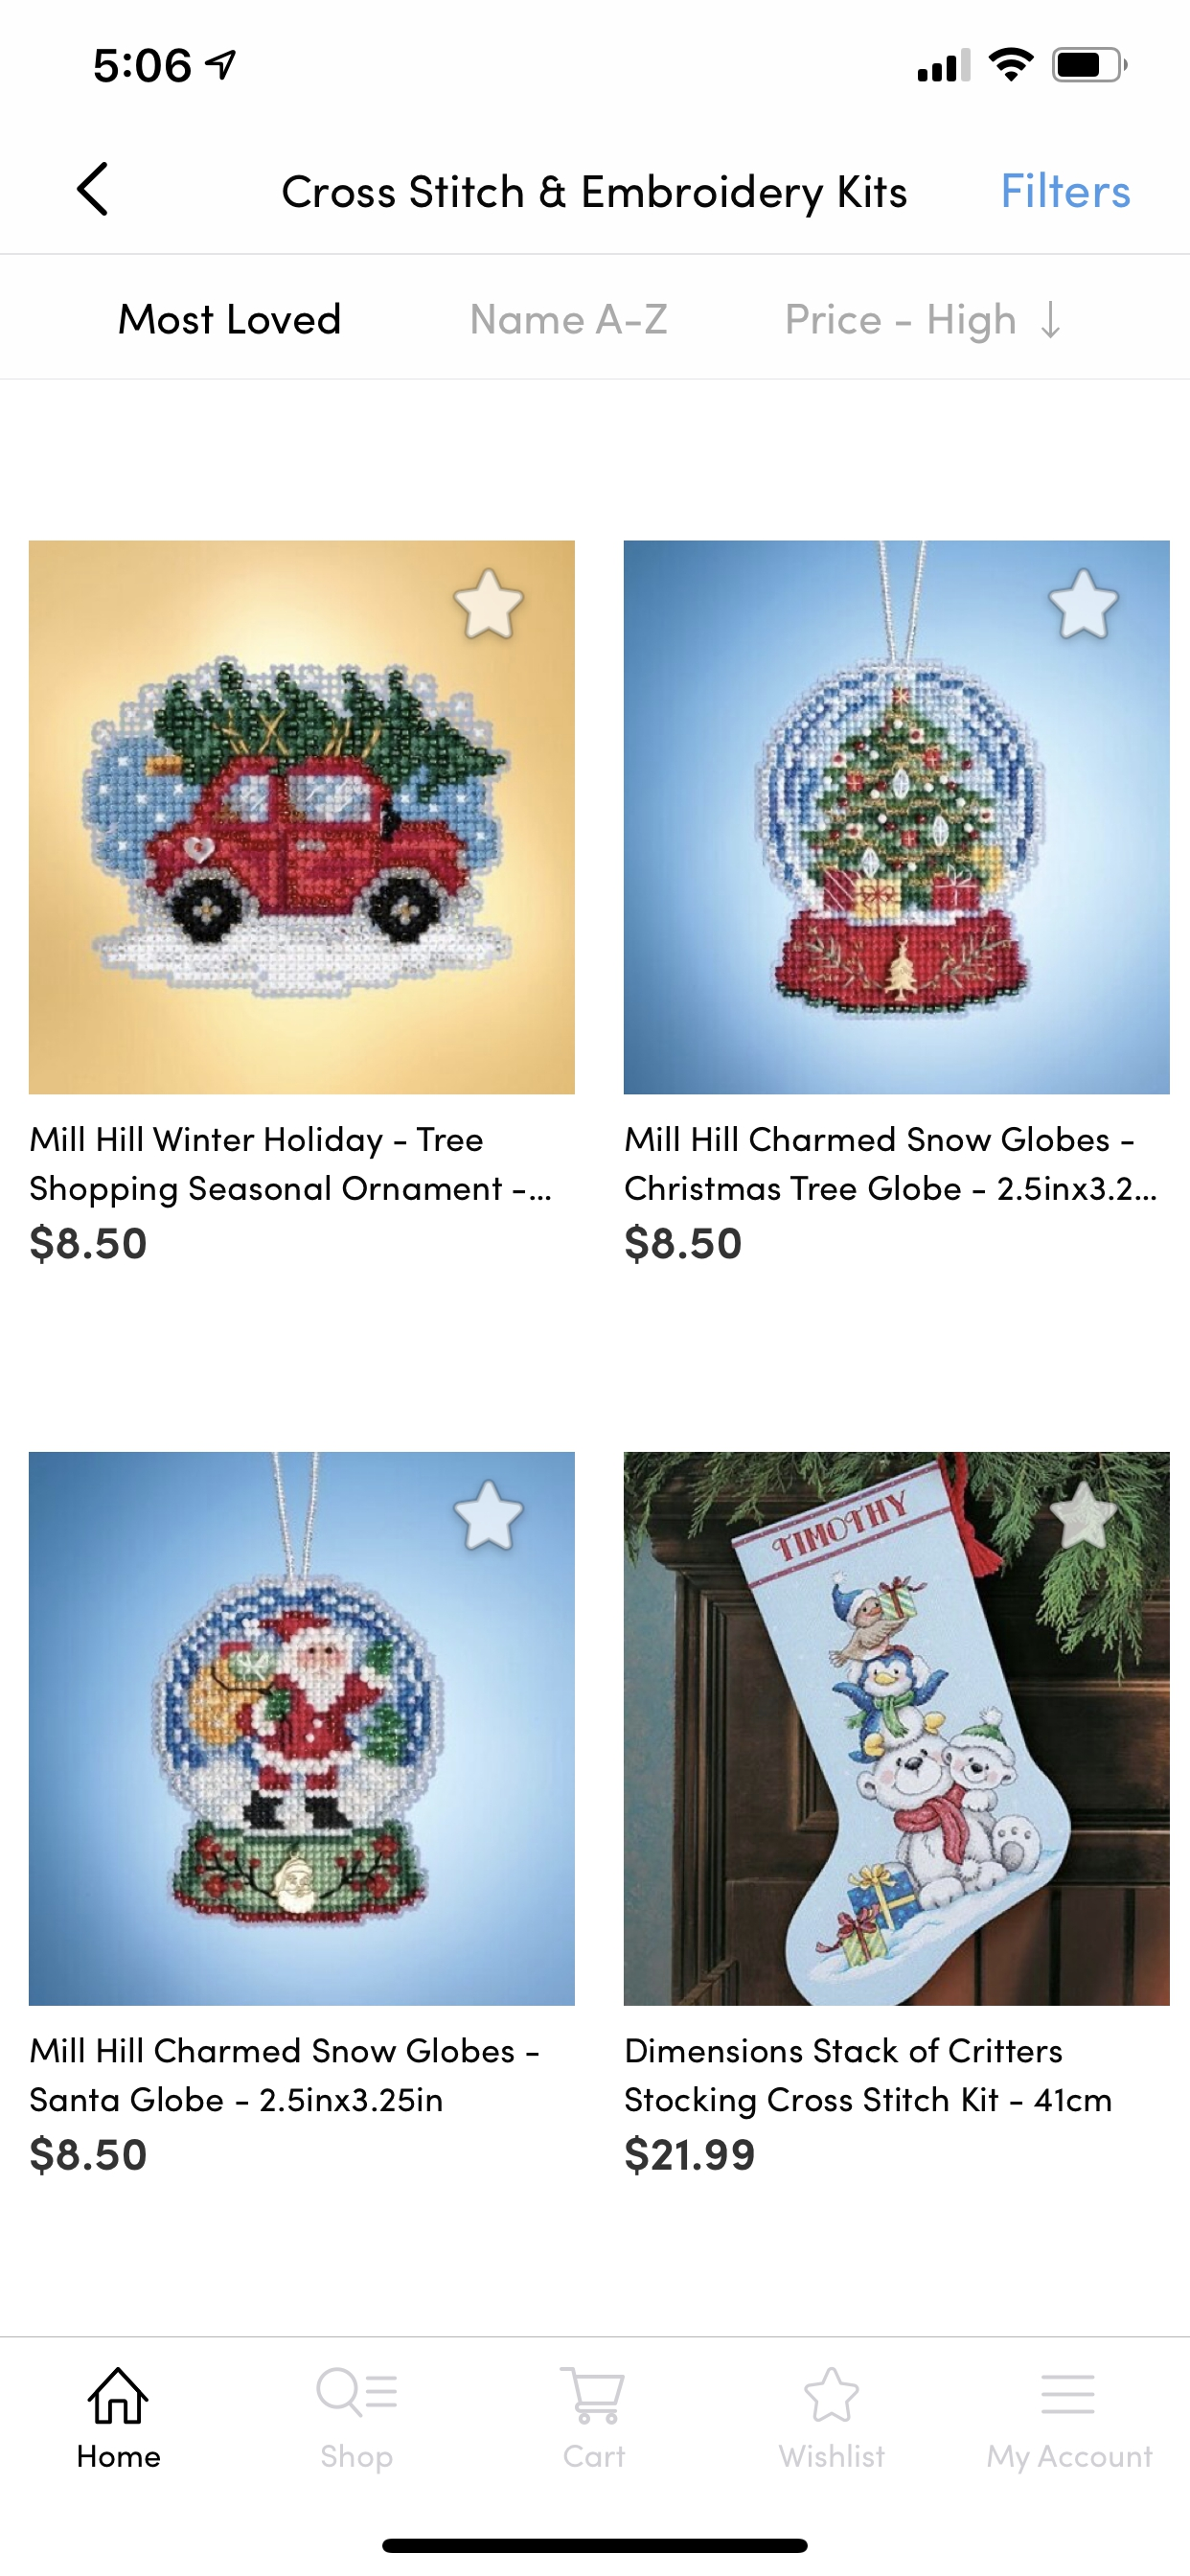Icon: (1047, 567, 1119, 641), (452, 567, 524, 641), (452, 1479, 524, 1551), (1049, 1480, 1118, 1549), (316, 2366, 398, 2418), (559, 2366, 625, 2425), (87, 2366, 150, 2425), (804, 2366, 860, 2422), (1040, 2374, 1095, 2413), (77, 163, 108, 217), (1042, 301, 1060, 338)
Image: (623, 1452, 1170, 2006), (28, 1452, 575, 2006), (623, 540, 1170, 1094), (28, 540, 575, 1094)
Text: (31, 1125, 551, 1209), (625, 2037, 1111, 2119), (31, 2037, 539, 2113), (283, 174, 906, 218), (626, 1175, 1155, 1199), (626, 1127, 1134, 1152), (787, 302, 1014, 345), (118, 302, 339, 335), (472, 304, 667, 335), (626, 2134, 754, 2175), (986, 2445, 1152, 2474), (1003, 171, 1131, 209), (31, 2136, 146, 2175), (31, 1224, 146, 1263), (626, 1226, 741, 1263), (777, 2443, 886, 2468), (322, 2443, 393, 2474), (79, 2445, 161, 2468), (564, 2445, 626, 2468)
UpperTaskBar: (94, 48, 1128, 84)
